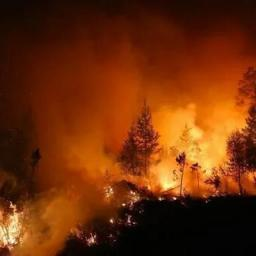Heavy smoke: (8, 5, 252, 119)
Large fire: (110, 103, 253, 203)
Medium fire: (1, 183, 107, 252)
